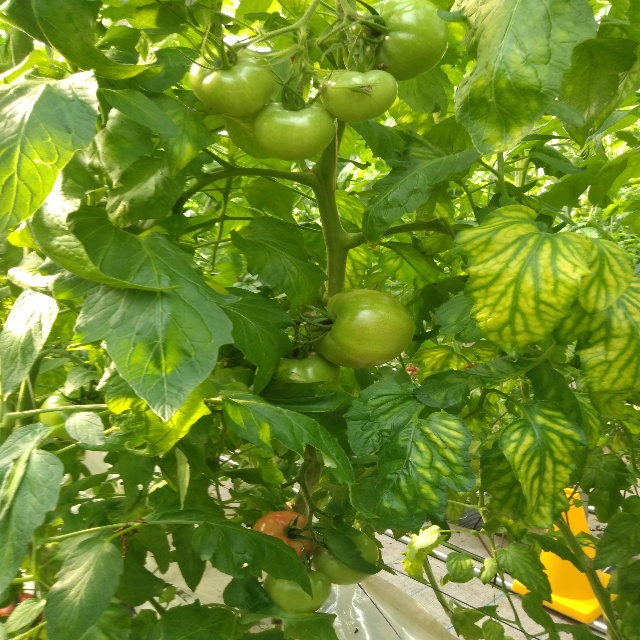b_green: (309, 289, 414, 368), (353, 0, 450, 81), (189, 46, 275, 117), (254, 101, 337, 162), (38, 383, 112, 441), (318, 69, 398, 122), (312, 527, 380, 585), (263, 569, 332, 613), (275, 349, 342, 387)
b_half_ripened: (251, 511, 316, 560)
